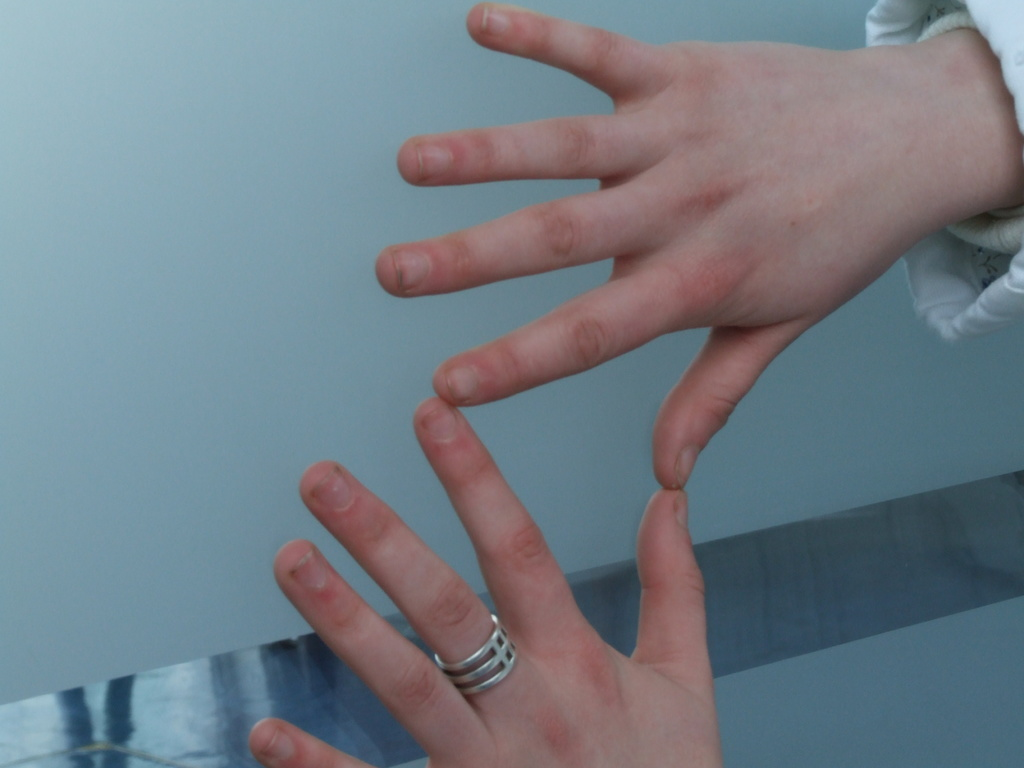Human_hand: (378, 0, 967, 493), (247, 393, 721, 767)
